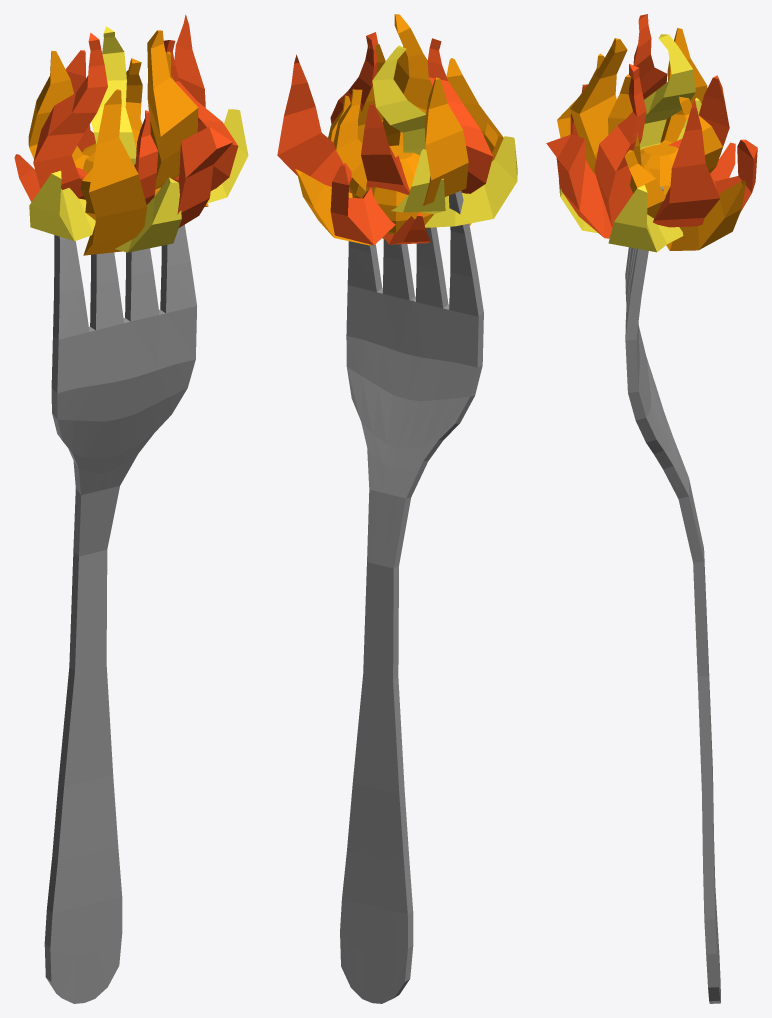
The model's file is FireForkUp2.glb.
3 views of the same model, side by side, from view 1: azimuth 30°, elevation 25°; view 2: azimuth 150°, elevation 25°; view 3: azimuth 270°, elevation 25° (orthographic). The views are drawn at different scales.
Visible parts, largest first — view 1: Node, group702594773.001, group167038055, group702594773, group813435182, group1012330263, group1012330263.001, group1602184737, group1762201146, group167038055.001, group217930424, group1190332235 (+4 smaller); view 2: Node, group217930424, group1762201146, group1012330263, group1501086520, group1602184737, group167038055, group702594773, group740134887, group1374064128, group2112811785, group300155229 (+5 smaller); view 3: Node, group217930424, group167038055.001, group813435182, group702594773, group1602184737, group1012330263.002, group1746021426, group167038055, group740134887, group1762201146, group1501086520 (+5 smaller).
Boxes of the visible parts, x1,y1,x2,y2 form: Node: (44,225,196,1003); group702594773.001: (83,89,147,255); group167038055: (33,32,107,199); group702594773: (136,30,198,189); group813435182: (161,127,233,227); group1012330263: (29,170,95,241); group1012330263.001: (115,177,181,252); group1602184737: (91,26,136,165); group1762201146: (28,50,89,169); group167038055.001: (163,40,238,190); group217930424: (174,14,205,107); group1190332235: (134,110,158,204); Node: (340,191,483,1003); group217930424: (277,54,352,192); group1762201146: (422,77,468,205); group1012330263: (425,136,517,227); group1501086520: (330,163,395,245); group1602184737: (372,45,425,154); group167038055: (427,38,492,193); group702594773: (382,14,432,145); group740134887: (361,103,409,194); group1374064128: (349,145,433,239); group2112811785: (333,89,367,190); group300155229: (391,149,445,213); Node: (625,186,720,1003); group217930424: (653,98,720,227); group167038055.001: (594,64,646,227); group813435182: (546,134,612,238); group702594773: (570,38,641,174); group1602184737: (640,34,695,149); group1012330263.002: (608,185,683,252); group1746021426: (666,180,745,250); group167038055: (633,14,667,99); group740134887: (668,75,729,155); group1762201146: (660,27,707,143); group1501086520: (713,139,757,211).
Size of the model in its own units: 1.31 by 5.57 by 1.1.
